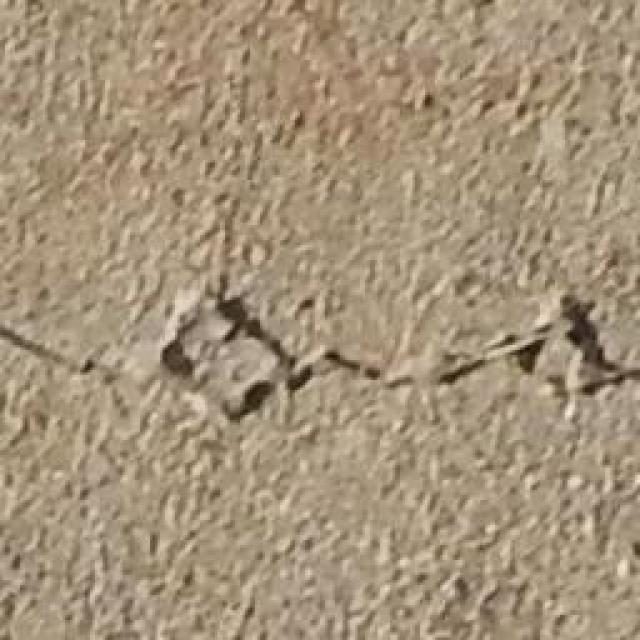concrete-crack: (2, 277, 640, 428)
